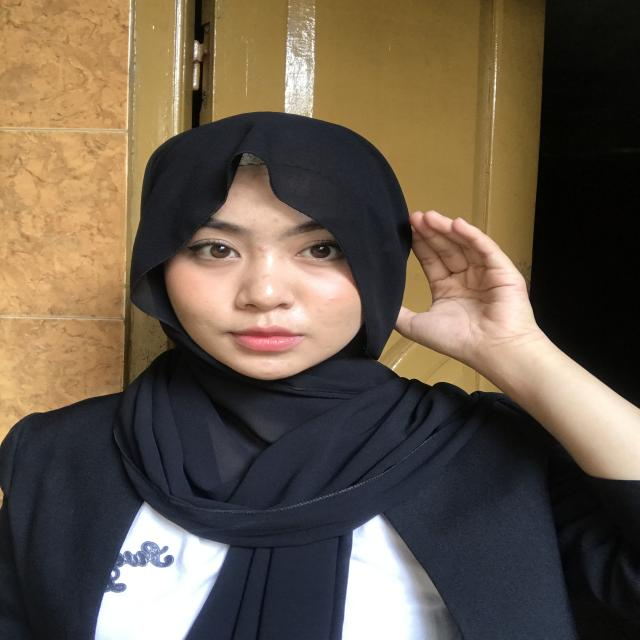mendengar: (386, 195, 535, 375)
